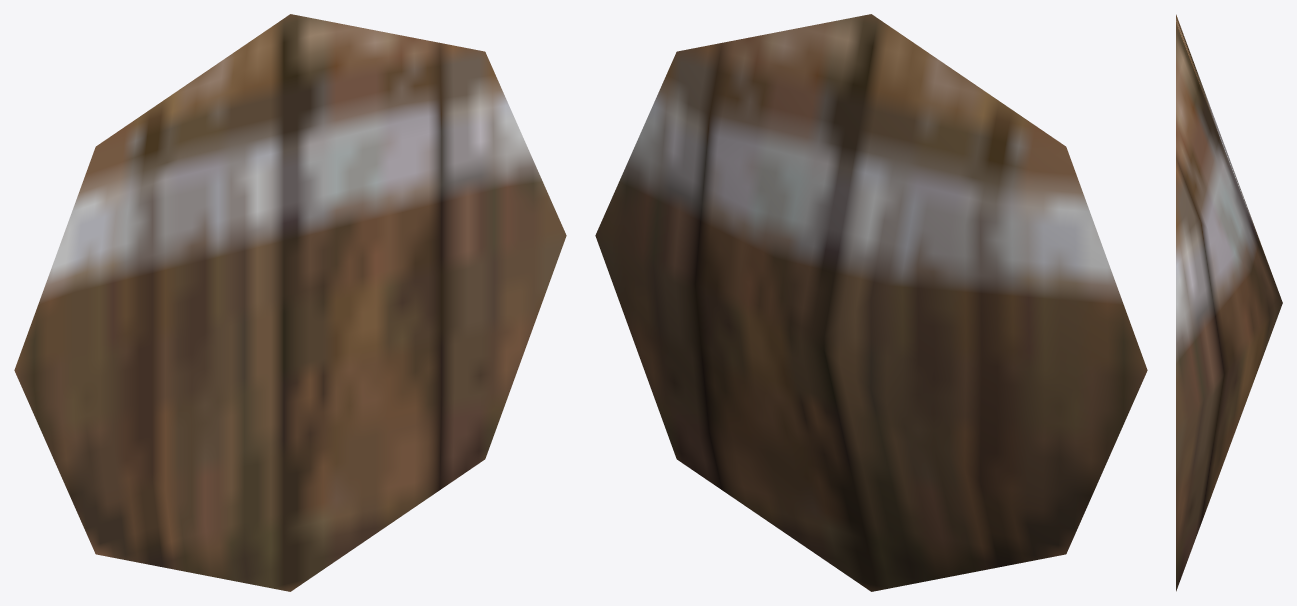
The model's file is attachments_g_shield_large_copper.glb.
The picture shows the model from 3 angles, left to right: view 1: azimuth 30°, elevation 25°; view 2: azimuth 150°, elevation 25°; view 3: azimuth 270°, elevation 25°; orthographic projection. The views are drawn at different scales.
Visible parts, largest first — view 1: MeshRoot; view 2: MeshRoot; view 3: MeshRoot.
Part boxes in pixels (x1,y1,x2,y2): MeshRoot: [14, 14, 566, 591]; MeshRoot: [595, 14, 1147, 591]; MeshRoot: [1176, 14, 1282, 591].
Size of the model in its own units: 0.4707 by 0.4707 by 0.0815.
1 material, 1 textured.
